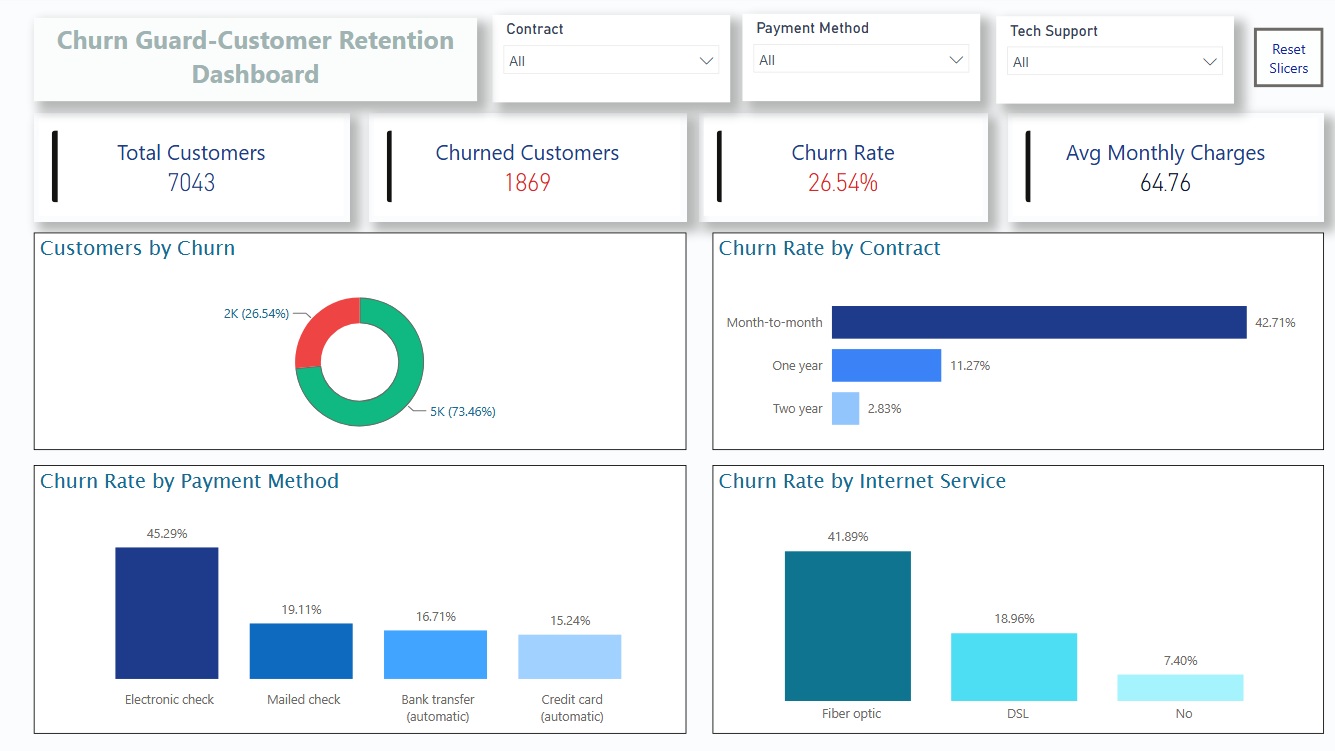

The page's visual inventory and layout, read from the dashboard file:
{"tool":"powerbi","page":{"name":"Customer Overview","canvas":[1280,720],"ordinal":0},"visuals":[{"type":"cardVisual","title":"Total Customers","fields":{"Data":["All Measure.Total Customers"]},"box":[32.6,112.2,300.4,103.8],"z":0},{"type":"cardVisual","title":"Churned Customers","fields":{"Data":["All Measure.Churned Customers"]},"box":[351.1,112.2,302.8,103.8],"z":1000},{"type":"cardVisual","title":"Churn Rate","fields":{"Data":["All Measure.Churn Rate"]},"box":[666,112.2,275.1,103.8],"z":2000},{"type":"cardVisual","title":"Avg Monthly Charges ($)","fields":{"Data":["All Measure.Average Monthly Charges"]},"box":[959.1,112.2,301.6,103.8],"z":3000},{"type":"donutChart","title":"Customers by Churn","fields":{"Y":["All Measure.Total Customers"],"Category":["Customer Churn.Churn"]},"box":[32.1,226.2,621.4,207.1],"z":4000},{"type":"clusteredBarChart","title":"Churn Rate by Contract","fields":{"Category":["Customer Churn.Contract"],"Y":["All Measure.Churn Rate"]},"box":[678,225.6,582.7,207.5],"z":5000},{"type":"clusteredColumnChart","fields":{"Y":["All Measure.Churn Rate"],"Category":["Customer Churn.PaymentMethod"]},"box":[32.1,447.6,621.4,256],"z":6000},{"type":"clusteredColumnChart","fields":{"Y":["All Measure.Churn Rate"],"Category":["Customer Churn.InternetService"]},"box":[678.6,447.6,582.1,256],"z":7000},{"type":"slicer","fields":{"Values":["Customer Churn.Contract"]},"box":[469.1,19,226.2,83.3],"z":8000},{"type":"textbox","box":[32.6,21.7,422.3,79.6],"z":9000},{"type":"slicer","fields":{"Values":["Customer Churn.PaymentMethod"]},"box":[707.1,17.9,226,83.3],"z":10000},{"type":"slicer","fields":{"Values":["Customer Churn.TechSupport"]},"box":[948.8,20.2,226,83.3],"z":11000},{"type":"actionButton","box":[1194.1,31,66.7,57.1],"z":11001}]}

Visuals, with their boxes in screenshot pixels (x1, y1, x2, y2), scaled from the page's 1280x720 canvas onto the 1335x751 screenshot:
"Total Customers" cardVisual: {"left": 34, "top": 117, "right": 347, "bottom": 225}
"Churned Customers" cardVisual: {"left": 366, "top": 117, "right": 682, "bottom": 225}
"Churn Rate" cardVisual: {"left": 695, "top": 117, "right": 982, "bottom": 225}
"Avg Monthly Charges ($)" cardVisual: {"left": 1000, "top": 117, "right": 1315, "bottom": 225}
"Customers by Churn" donutChart: {"left": 33, "top": 236, "right": 682, "bottom": 452}
"Churn Rate by Contract" clusteredBarChart: {"left": 707, "top": 235, "right": 1315, "bottom": 452}
clusteredColumnChart - All Measure.Churn Rate x Customer Churn.PaymentMethod: {"left": 33, "top": 467, "right": 682, "bottom": 734}
clusteredColumnChart - All Measure.Churn Rate x Customer Churn.InternetService: {"left": 708, "top": 467, "right": 1315, "bottom": 734}
slicer - Customer Churn.Contract: {"left": 489, "top": 20, "right": 725, "bottom": 107}
textbox: {"left": 34, "top": 23, "right": 474, "bottom": 106}
slicer - Customer Churn.PaymentMethod: {"left": 737, "top": 19, "right": 973, "bottom": 106}
slicer - Customer Churn.TechSupport: {"left": 990, "top": 21, "right": 1225, "bottom": 108}
actionButton: {"left": 1245, "top": 32, "right": 1315, "bottom": 92}
